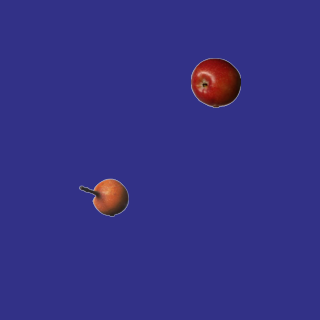Apple Braeburn: (190, 57, 240, 107)
Granadilla: (78, 172, 128, 222)
